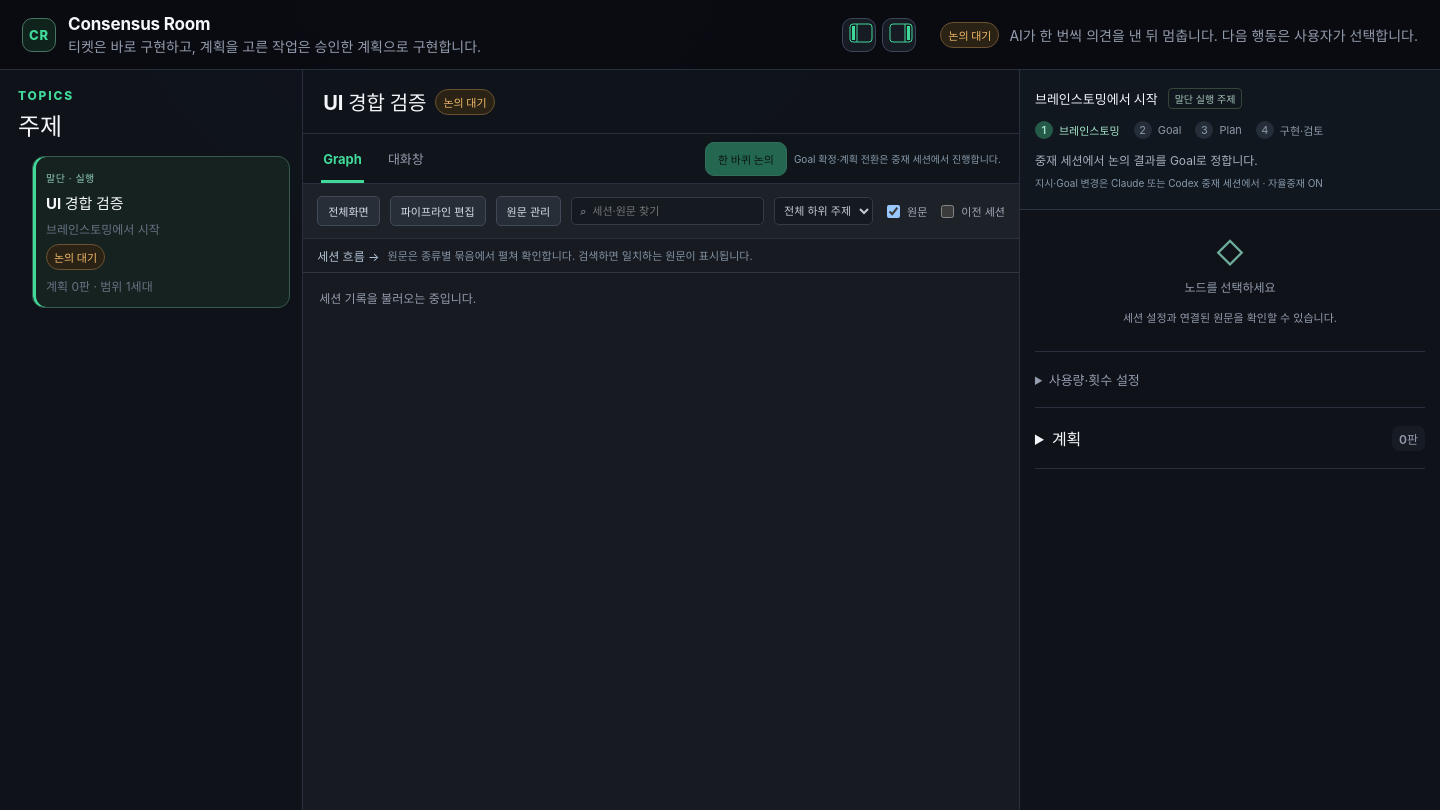
Test case: 계획 전 선택형 논의 › 같은 AI의 두 참여자를 버튼과 발언의 접근 가능한 이름으로 구분한다
The image size is (1440, 810).
Click the tab "대화창" at (406, 158), box [386,134,426,183]
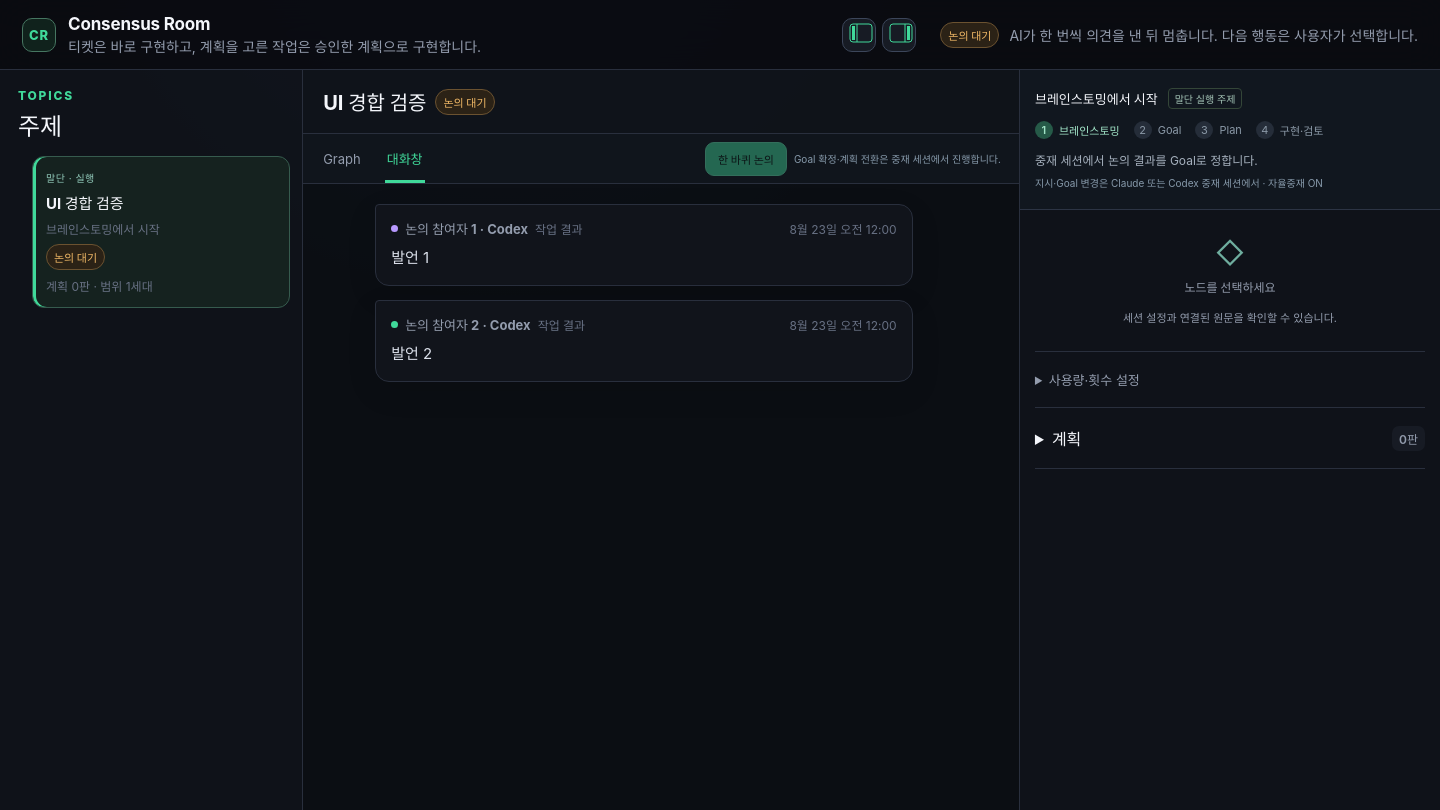
Now the text "발언 1" is shown, box [391,248,429,267]
Now the text "논의 참여자 1 · Codex" is shown, box [405,219,528,238]
Now the text "논의 참여자 2 · Codex" is shown, box [405,315,531,334]
